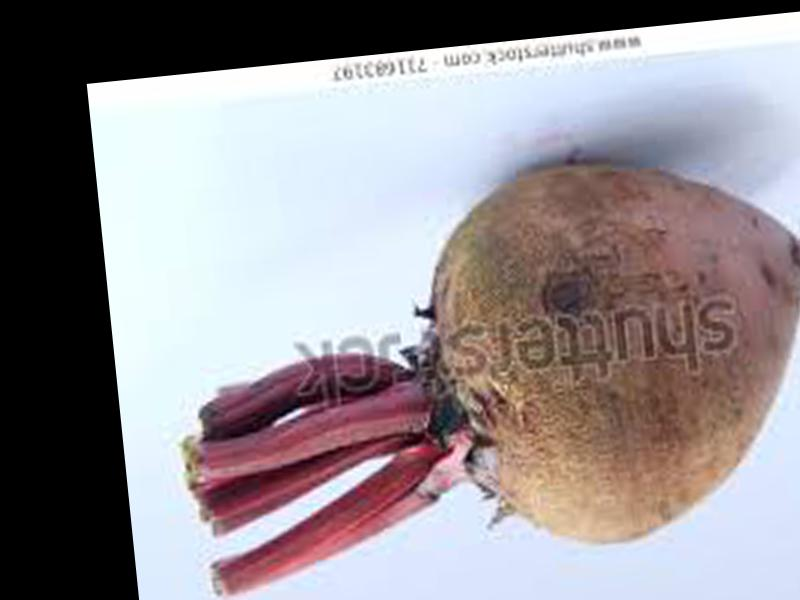Beet: (170, 141, 800, 590)
